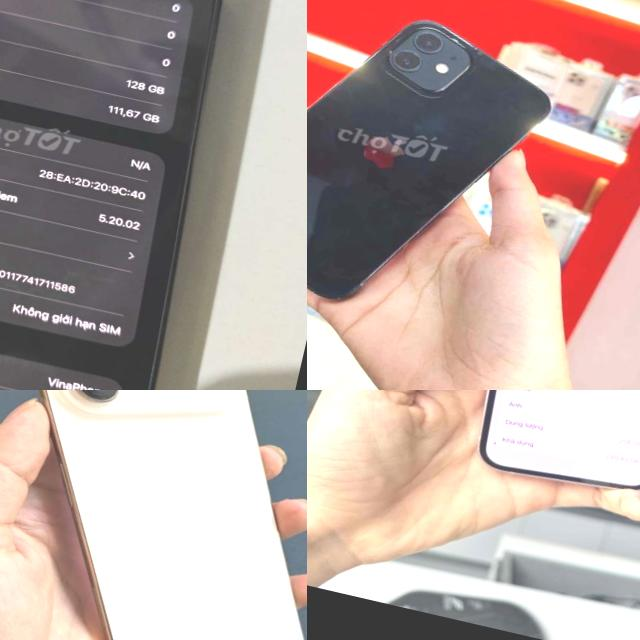gen_12_13: (0, 0, 267, 390), (307, 0, 566, 339), (458, 390, 640, 501)
gen_17: (0, 390, 307, 640)
